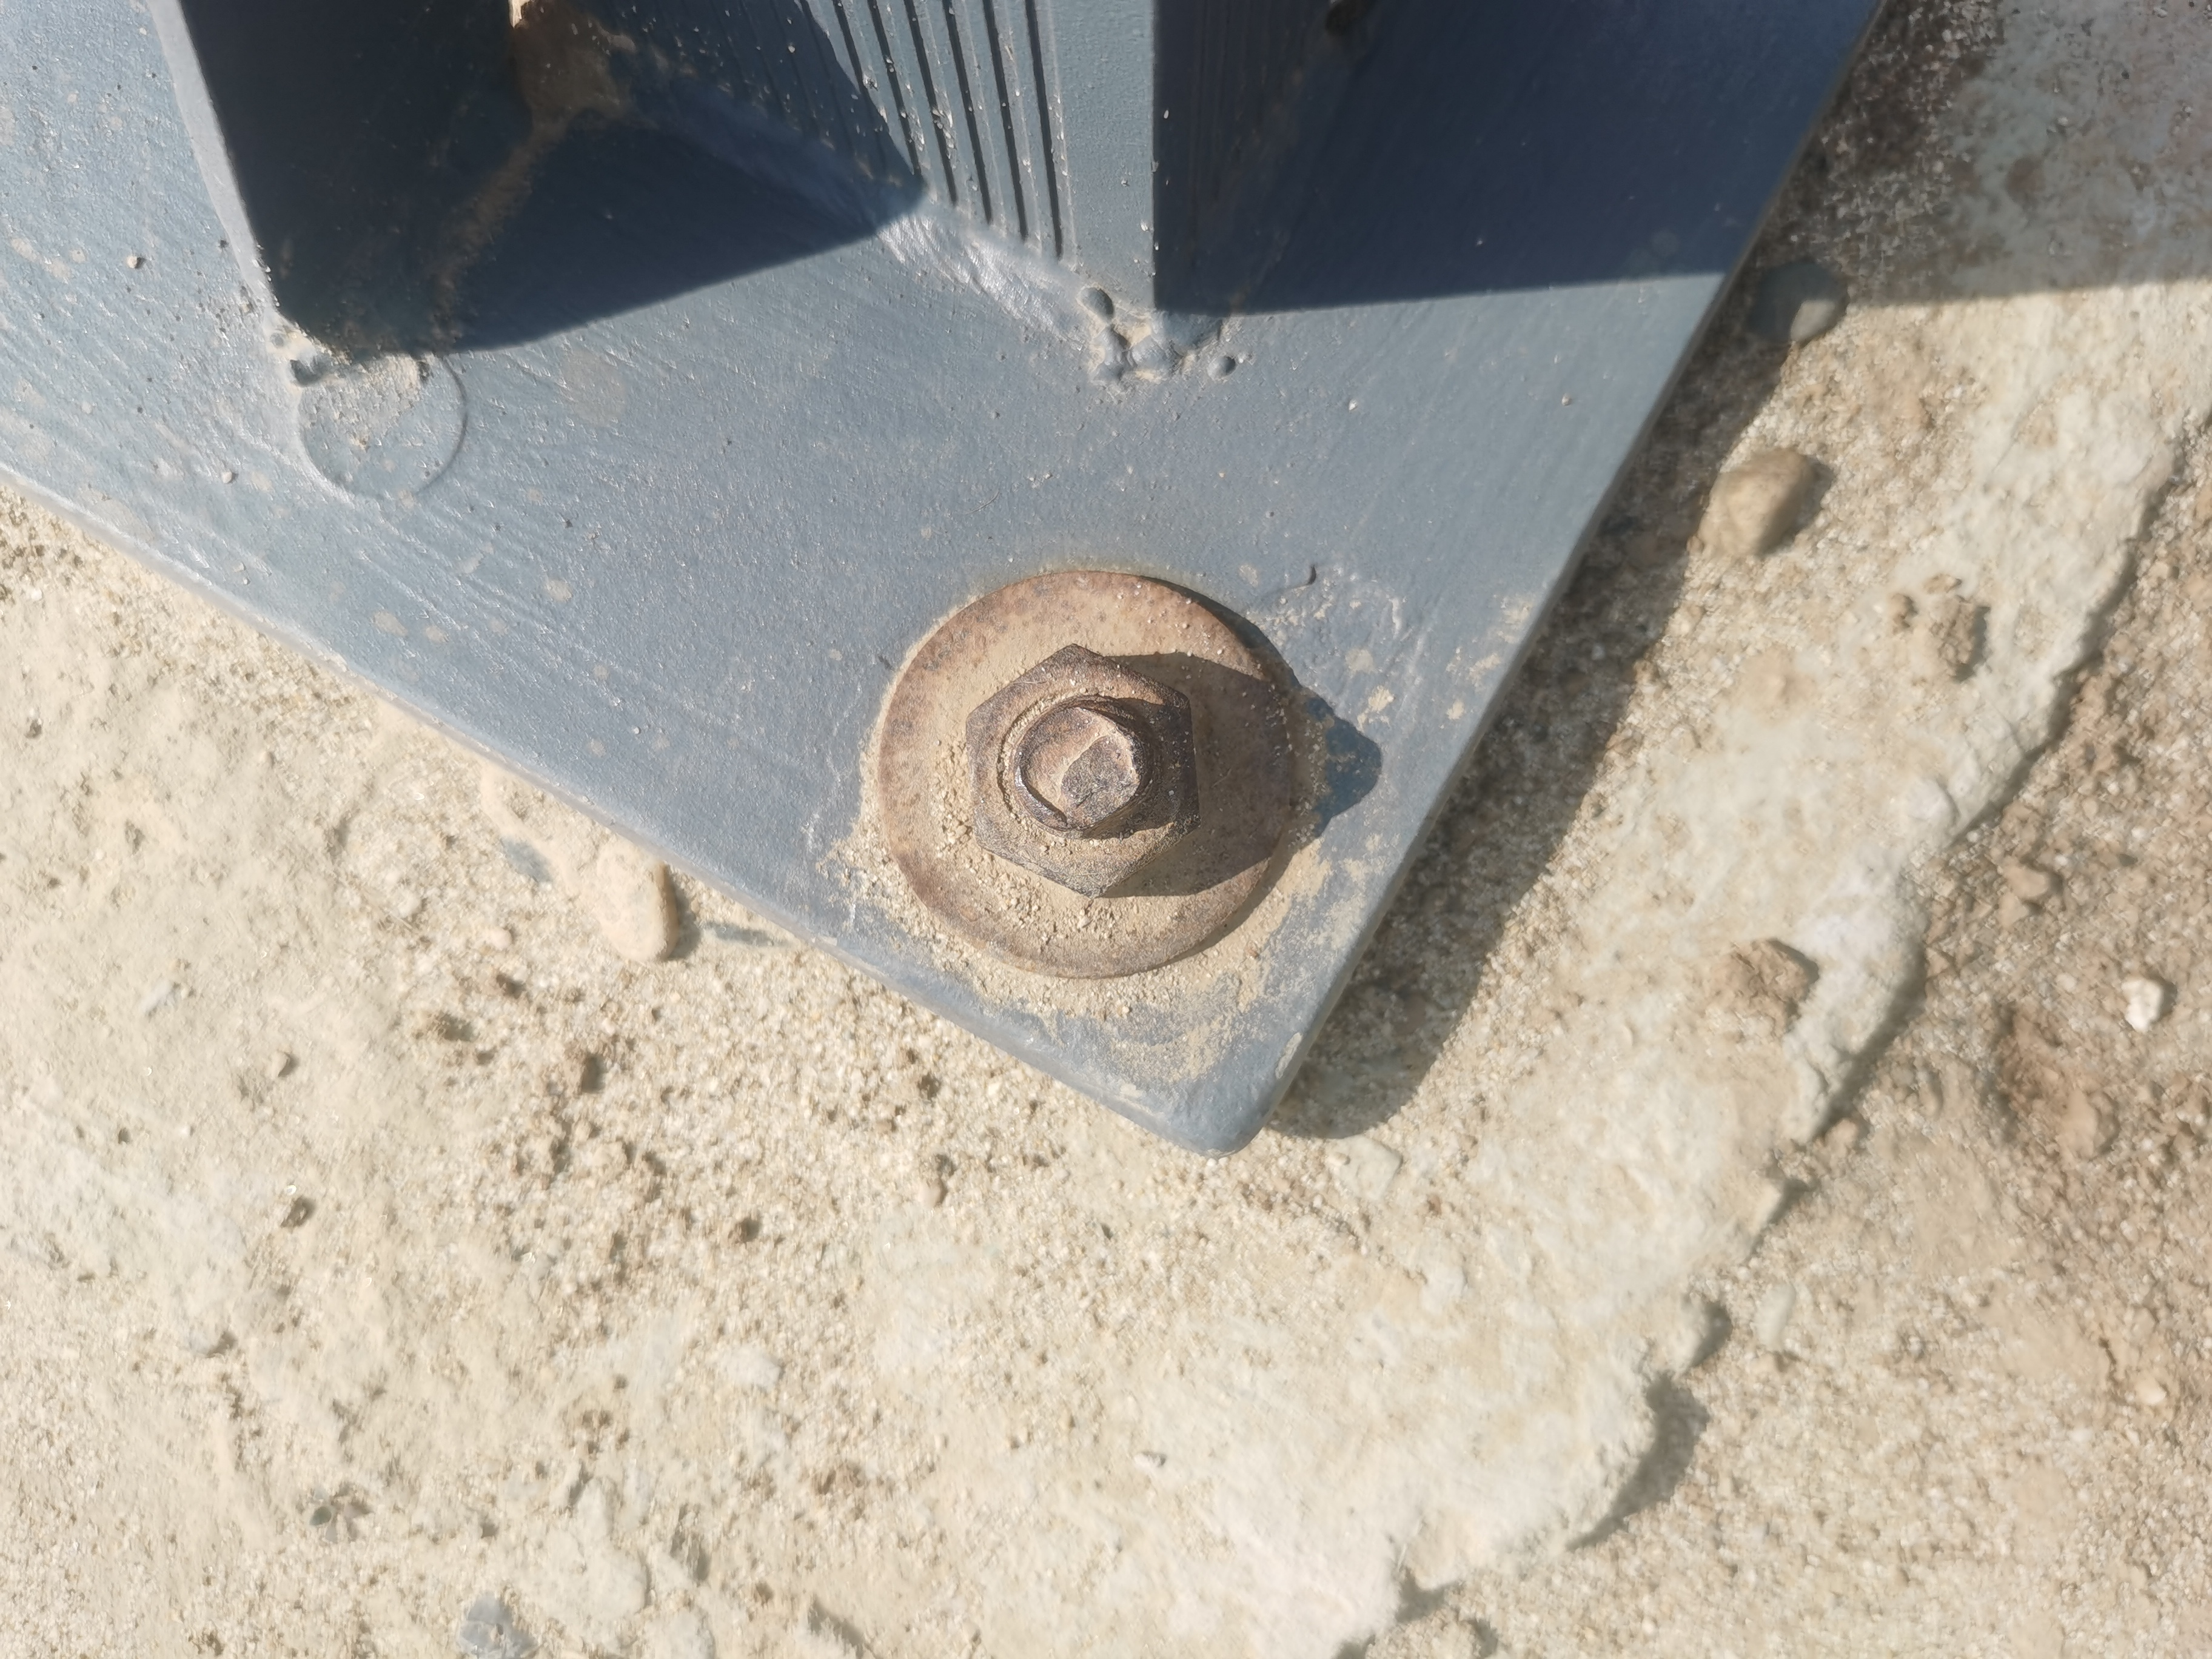bolt_b: (963, 641, 1204, 903)
